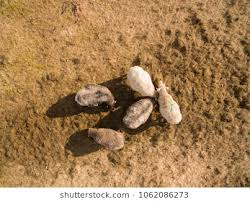sheep: (74, 80, 118, 111), (154, 81, 181, 124), (126, 65, 157, 100), (83, 125, 126, 150), (121, 98, 154, 130)
